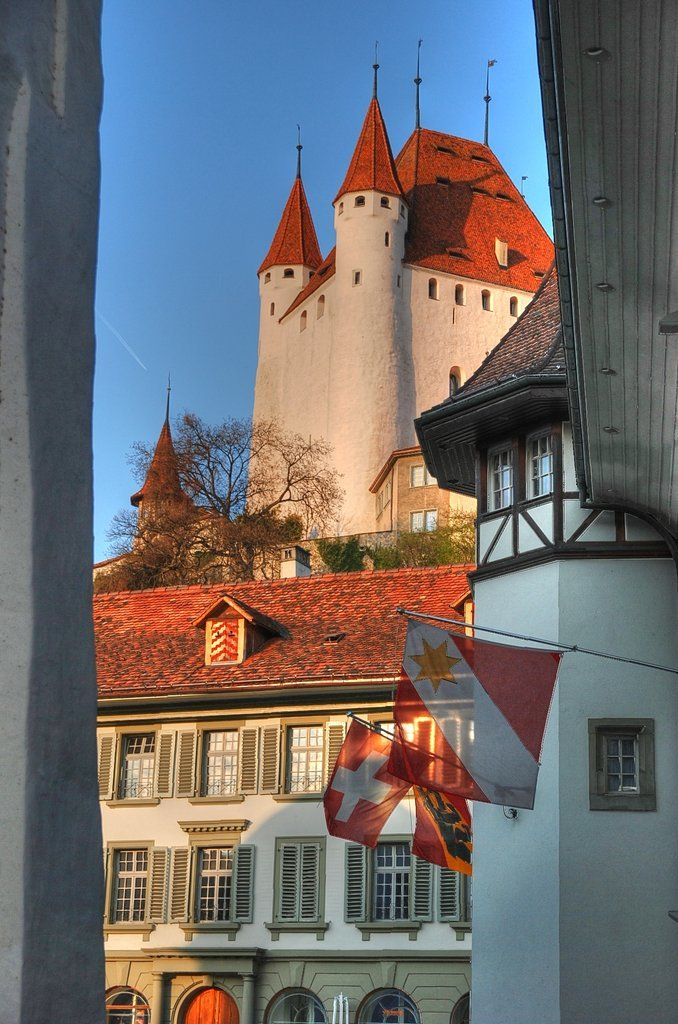Tree: (100, 400, 344, 581), (345, 515, 475, 577)
